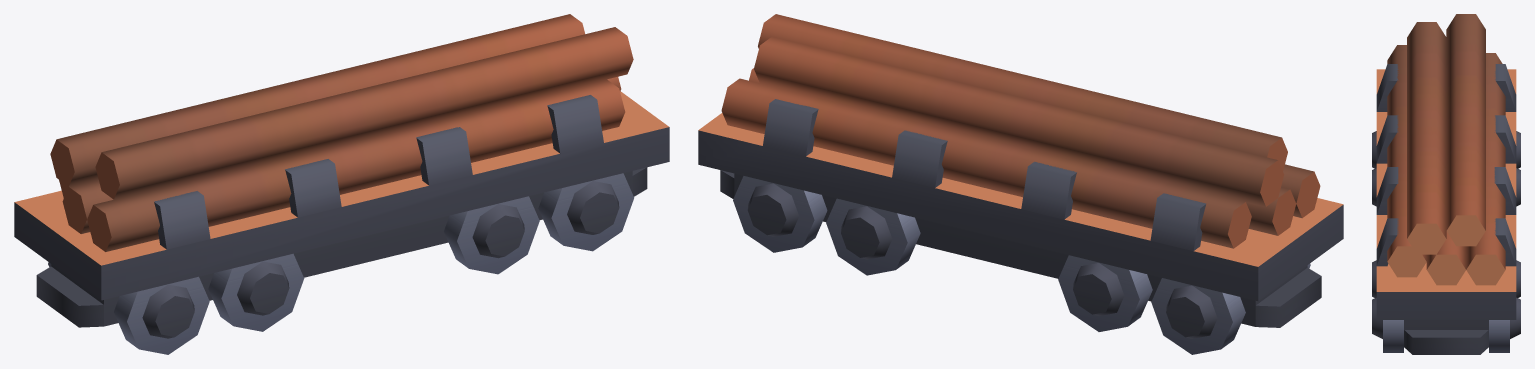
The model's file is kenney-holiday-train-wagon-logs.glb.
3 renders of one model, left to right at view 1: azimuth 30°, elevation 25°; view 2: azimuth 150°, elevation 25°; view 3: azimuth 270°, elevation 25°, orthographic. The views are drawn at different scales.
Visible parts, largest first — view 1: train-wagon-logs; view 2: train-wagon-logs; view 3: train-wagon-logs.
Boxes of the visible parts, x1,y1,x2,y2 form: train-wagon-logs: (14, 14, 669, 354); train-wagon-logs: (698, 14, 1343, 354); train-wagon-logs: (1372, 14, 1520, 354).
Bounding box in the file's own units: 0.6914 × 0.2168 × 0.1949.
Materials: 1 (1 with a texture image).
